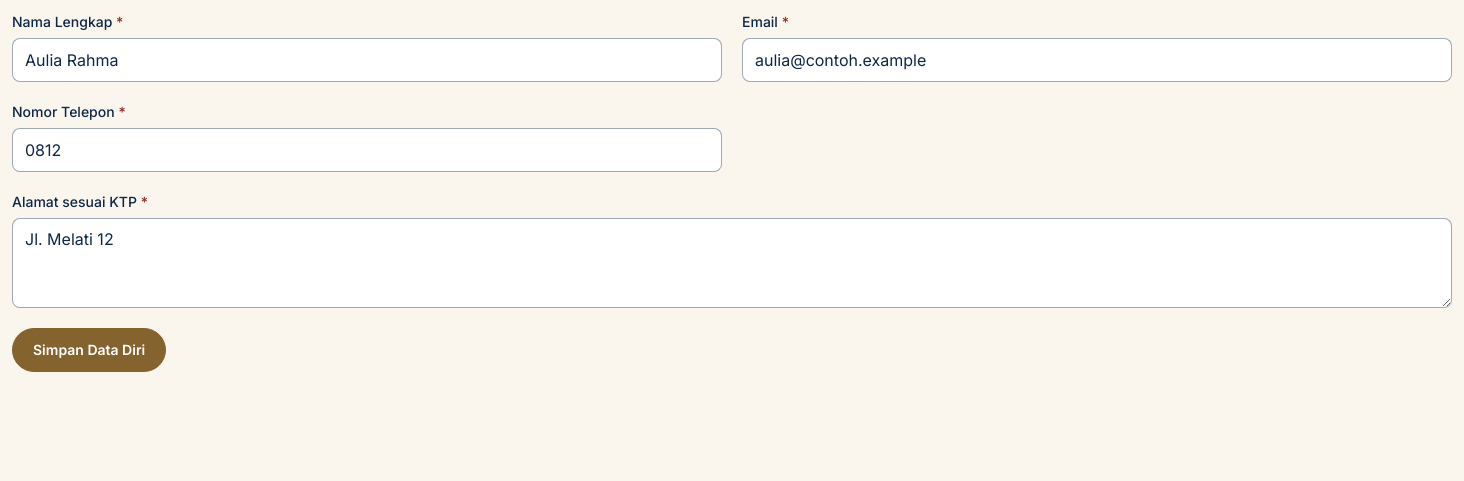
it: FormProfil (FR-AKN-07/08) › FR_AKN_08_email_duplikat_per_isian
Click the button "Simpan Data Diri": (89, 350) [12,328,166,372]
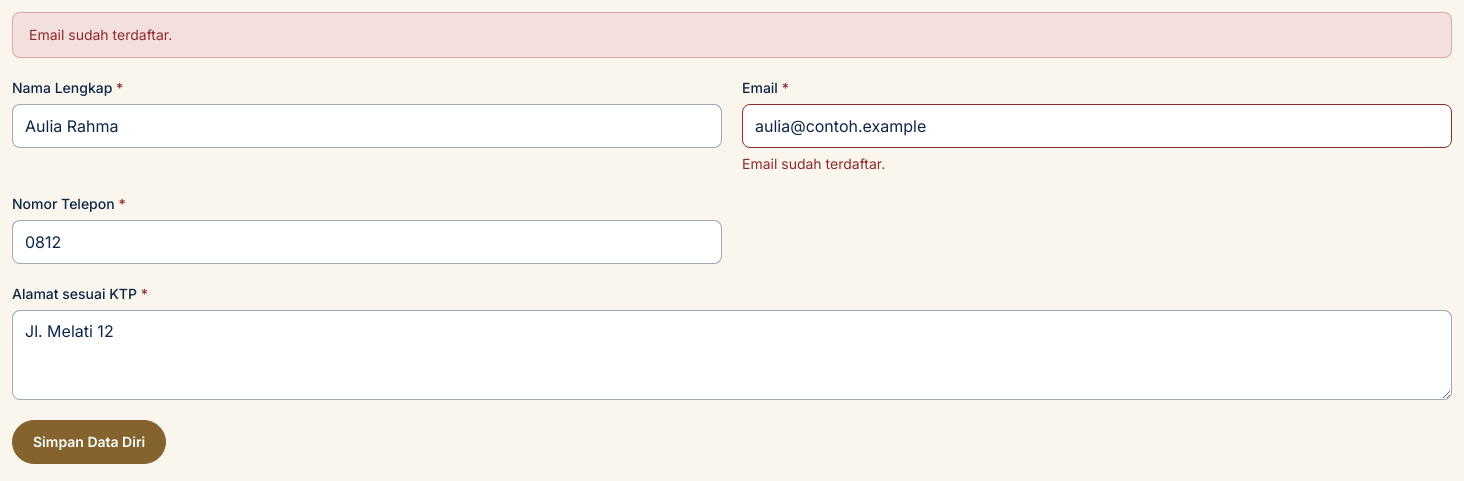
Result: the message reads "Email sudah terdaftar." at [29,26,172,43]
